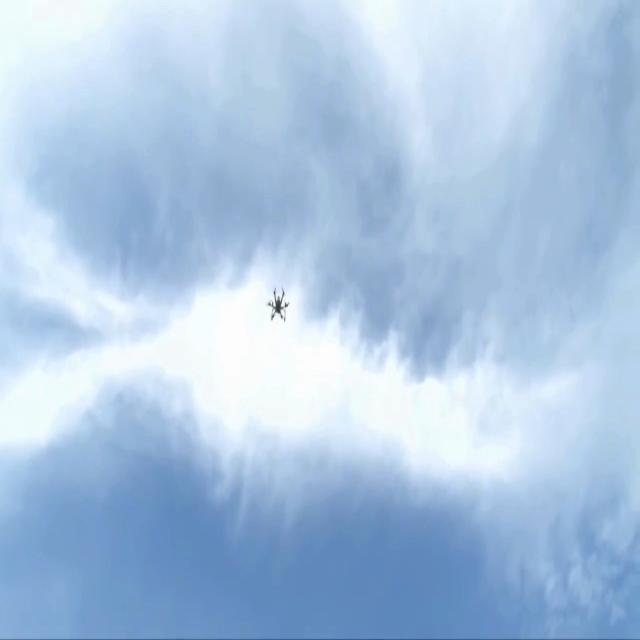drone: (266, 286, 290, 322)
